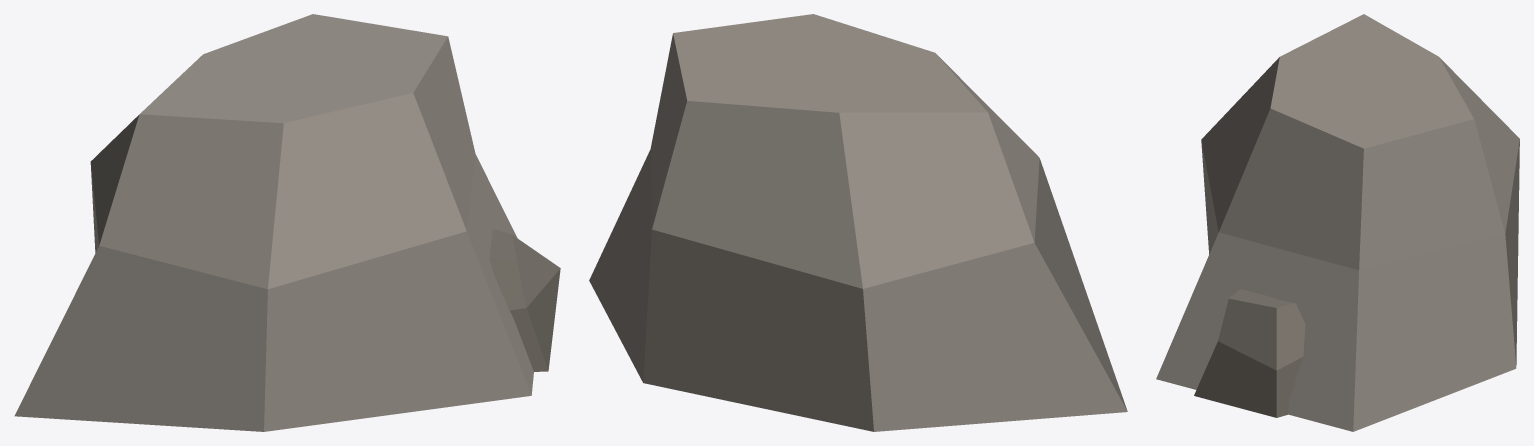
File: Isl-hilly2-DecorKit.fbx
3 renders of one model, left to right at view 1: azimuth 30°, elevation 25°; view 2: azimuth 150°, elevation 25°; view 3: azimuth 270°, elevation 25°, orthographic. The views are drawn at different scales.
Parts seen in each view (by area): view 1: Isl-hilly2-DecorKit-crag_3, Isl-hilly2-DecorKit-crag_1; view 2: Isl-hilly2-DecorKit-crag_3; view 3: Isl-hilly2-DecorKit-crag_3, Isl-hilly2-DecorKit-crag_1.
Part boxes in pixels (x1,y1,x2,y2): Isl-hilly2-DecorKit-crag_3: [14, 14, 533, 431]; Isl-hilly2-DecorKit-crag_1: [489, 228, 560, 371]; Isl-hilly2-DecorKit-crag_3: [589, 14, 1127, 431]; Isl-hilly2-DecorKit-crag_3: [1156, 14, 1519, 431]; Isl-hilly2-DecorKit-crag_1: [1194, 289, 1305, 417].
Size of the model in its own units: 3.26 by 1.6 by 2.14.
